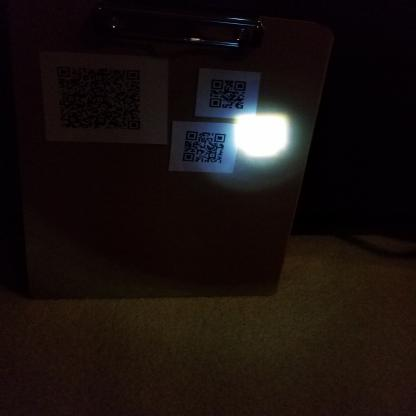qr: (53, 60, 146, 134), (179, 128, 226, 165), (206, 76, 248, 114)
